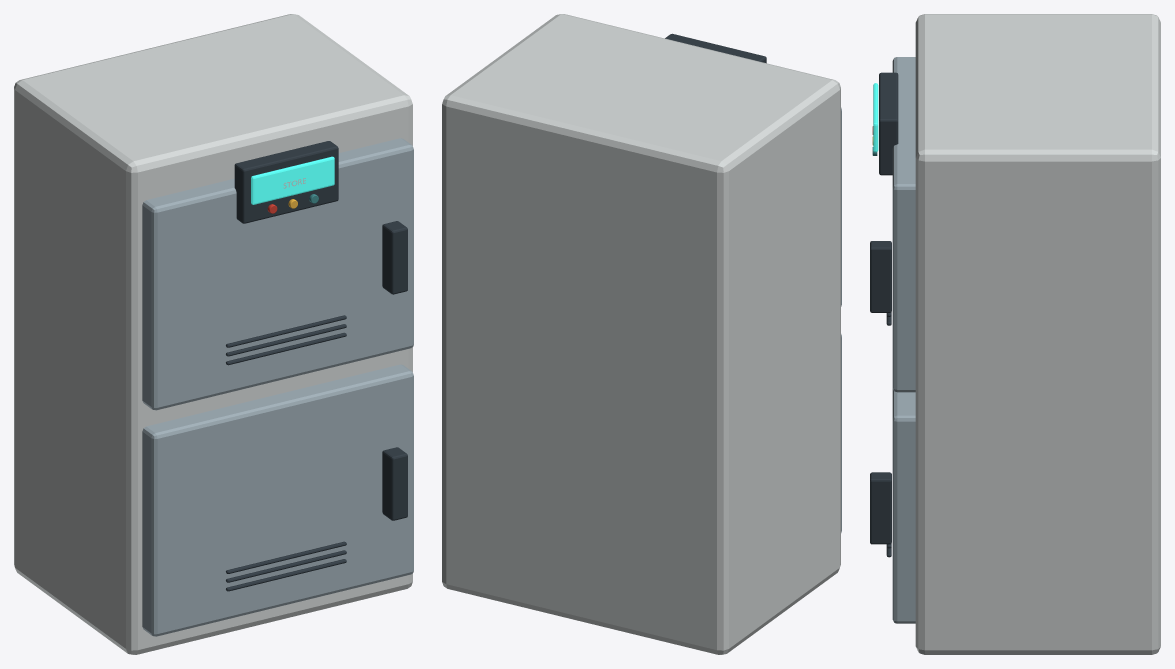
The model's file is cold-storage.glb.
The picture shows the model from 3 angles, left to right: view 1: azimuth 30°, elevation 25°; view 2: azimuth 150°, elevation 25°; view 3: azimuth 270°, elevation 25°; orthographic projection. The views are drawn at different scales.
Parts seen in each view (by area): view 1: Insulated cabinet, Insulated door, Insulated door.001, Control bezel, Screen, Vertical latch, Vertical latch.001, Vent.005, Vent.001, Vent.003, Vent, Vent.004 (+1 smaller); view 2: Insulated cabinet, Control bezel; view 3: Insulated cabinet, Insulated door.001, Insulated door, Control bezel, Vertical latch, Vertical latch.001.
Part boxes in pixels (x1=…): Insulated cabinet: x1=14, y1=14, x2=412, y2=654; Insulated door: x1=142, y1=364, x2=413, y2=636; Insulated door.001: x1=142, y1=138, x2=413, y2=410; Control bezel: x1=234, y1=141, x2=338, y2=223; Screen: x1=251, y1=156, x2=334, y2=204; Vertical latch: x1=382, y1=447, x2=407, y2=520; Vertical latch.001: x1=382, y1=221, x2=407, y2=294; Vent.005: x1=226, y1=315, x2=346, y2=347; Vent.001: x1=226, y1=550, x2=346, y2=582; Vent.003: x1=226, y1=332, x2=346, y2=365; Vent: x1=226, y1=559, x2=346, y2=591; Vent.004: x1=226, y1=324, x2=346, y2=356; Insulated cabinet: x1=442, y1=14, x2=840, y2=654; Control bezel: x1=665, y1=33, x2=766, y2=63; Insulated cabinet: x1=915, y1=14, x2=1160, y2=654; Insulated door.001: x1=892, y1=57, x2=915, y2=392; Insulated door: x1=892, y1=388, x2=915, y2=623; Control bezel: x1=879, y1=72, x2=898, y2=175; Vertical latch: x1=870, y1=472, x2=891, y2=544; Vertical latch.001: x1=870, y1=241, x2=891, y2=312.
Size of the model in its own units: 1.31 by 2.16 by 1.13.
